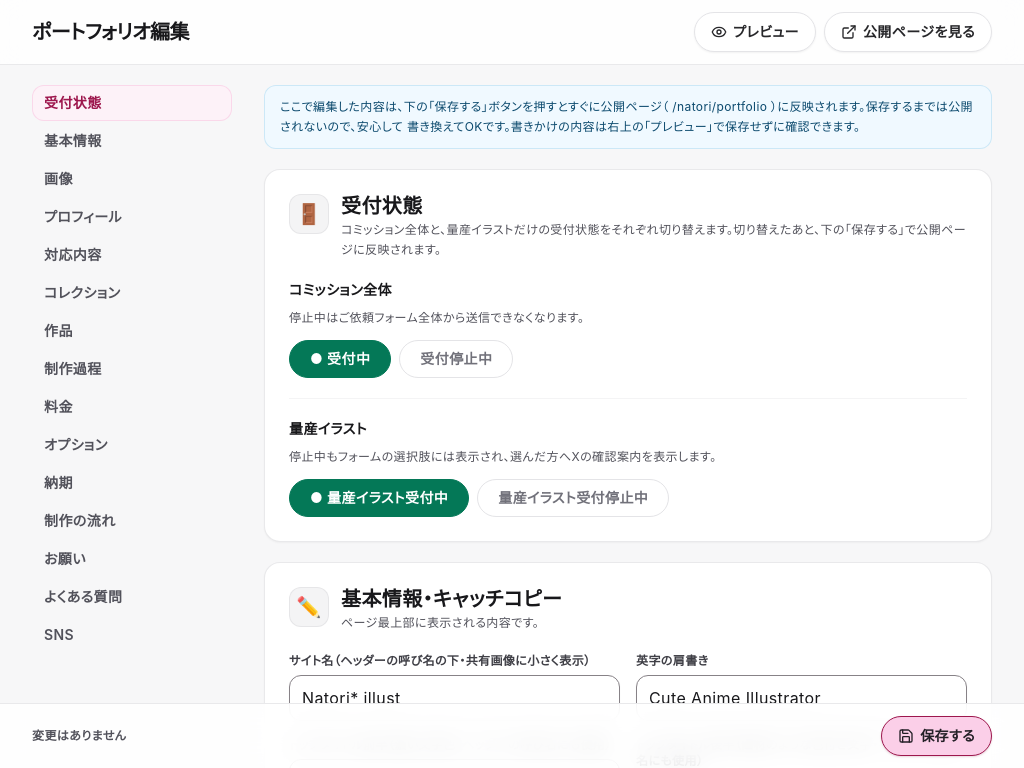
editor save concurrency › retains pending edits and dirty state after server status 409
Replace the text in the field labelled "サイト名（ヘッダーの呼び名の下・共有画像に小さく表示）" with "Pending" at {"x": 454, "y": 698}, box [289,675,620,721]
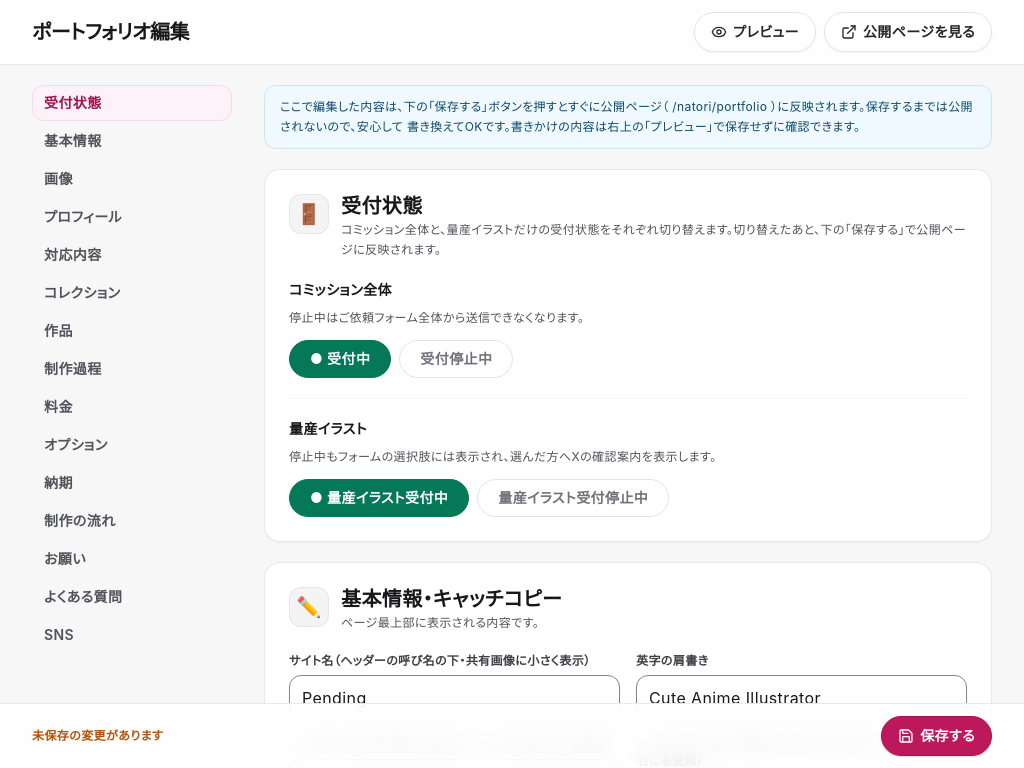
Click the button "保存する" at {"x": 937, "y": 736}, box [881,716,992,756]
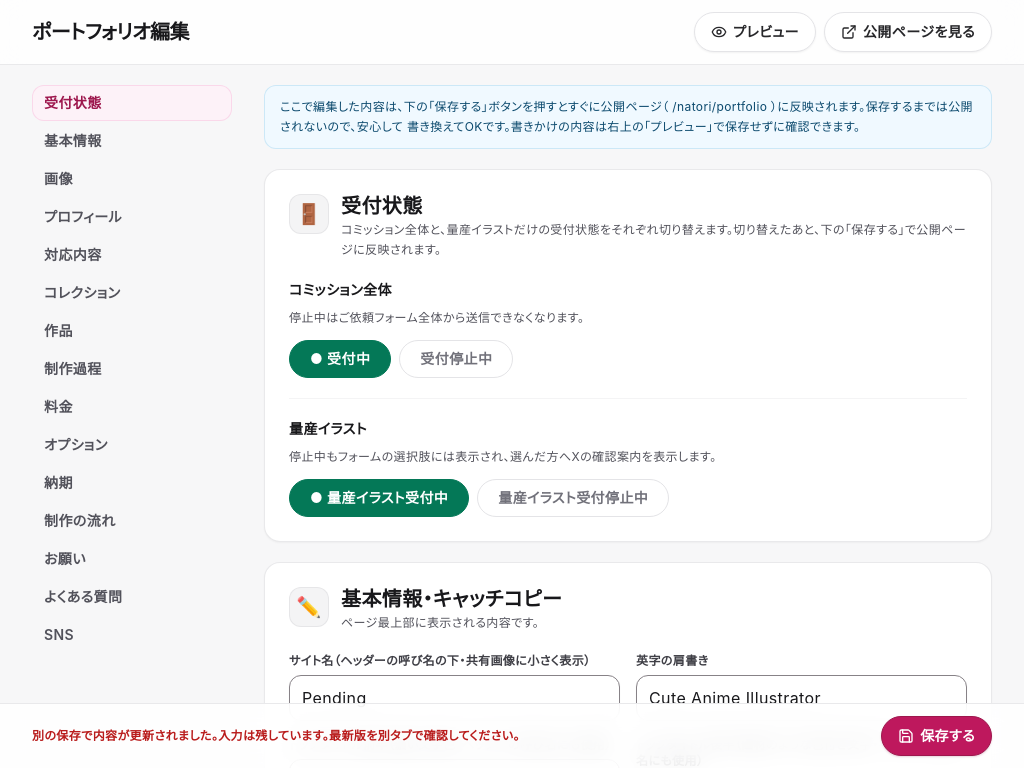
Check: the button "保存する" is enabled, box [881,716,992,756]
Check: the element showing "別の保存で内容が更新されました。入力は残しています。最新版を別タブで確認してください。" is shown, box [32,728,520,744]
